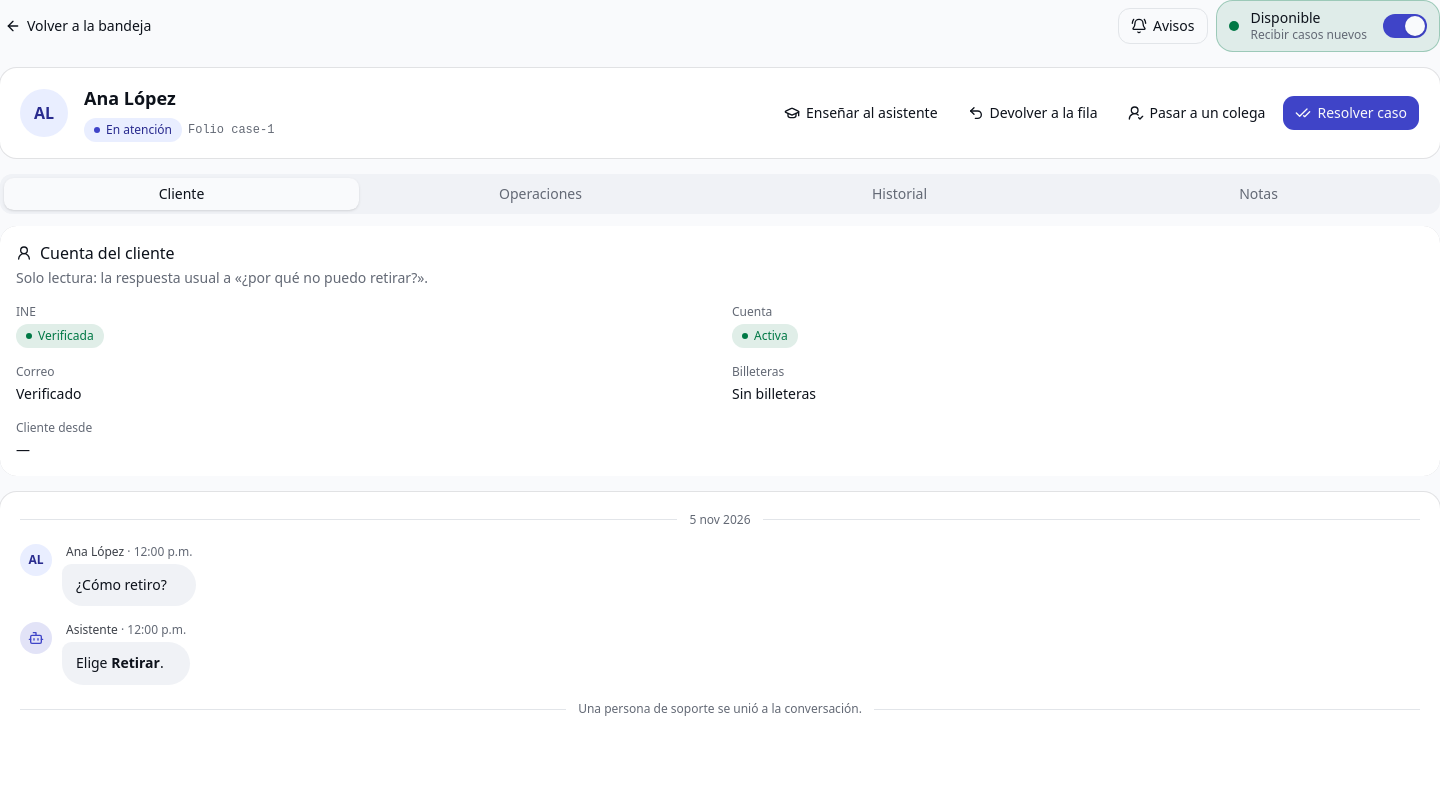
the customer's operations, for the agent attending them › explains when the operation is already under review
Click the tab "Operaciones": (540, 194) [363, 178, 718, 210]
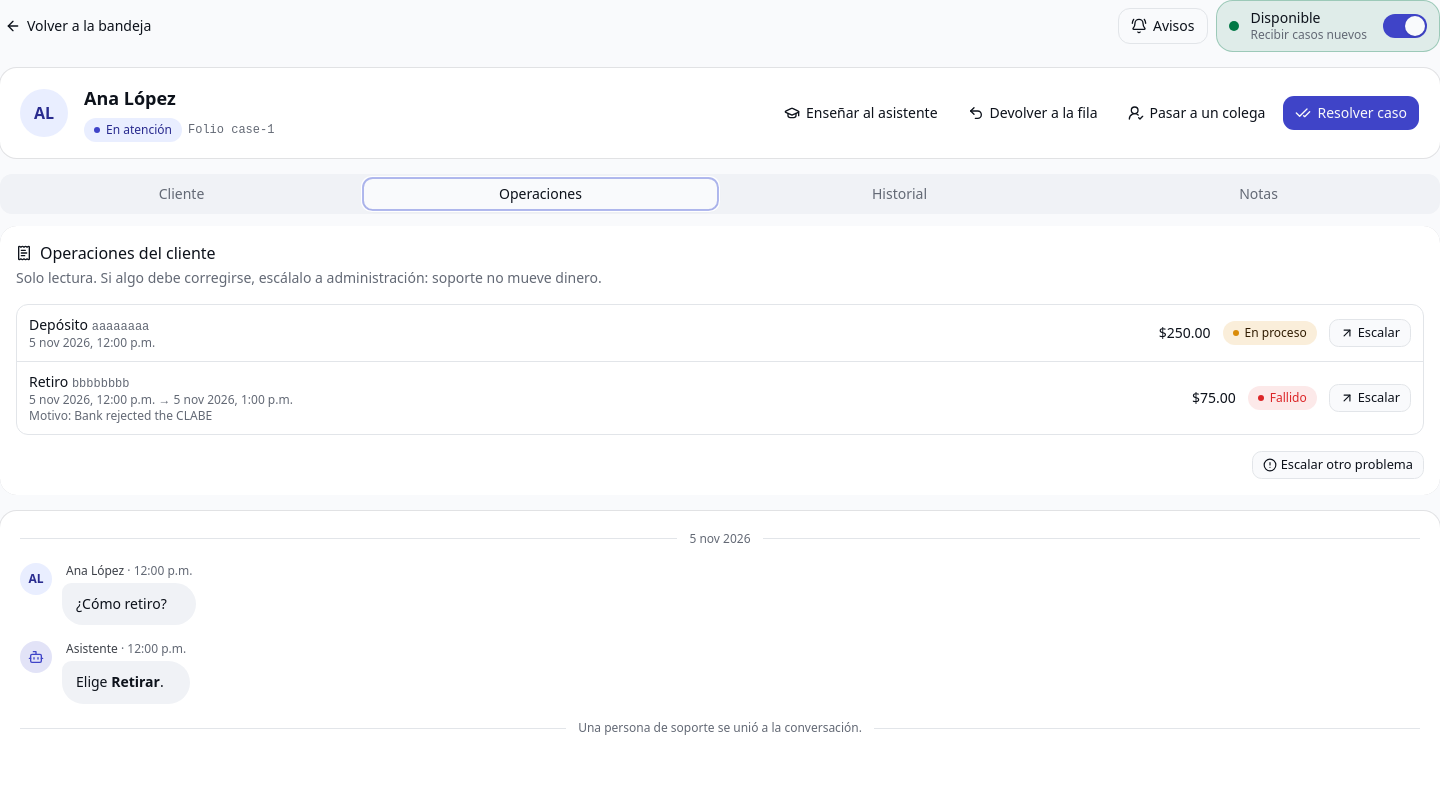
Click the button with aria-label "Escalar Retiro": (1370, 398) [1329, 384, 1411, 412]
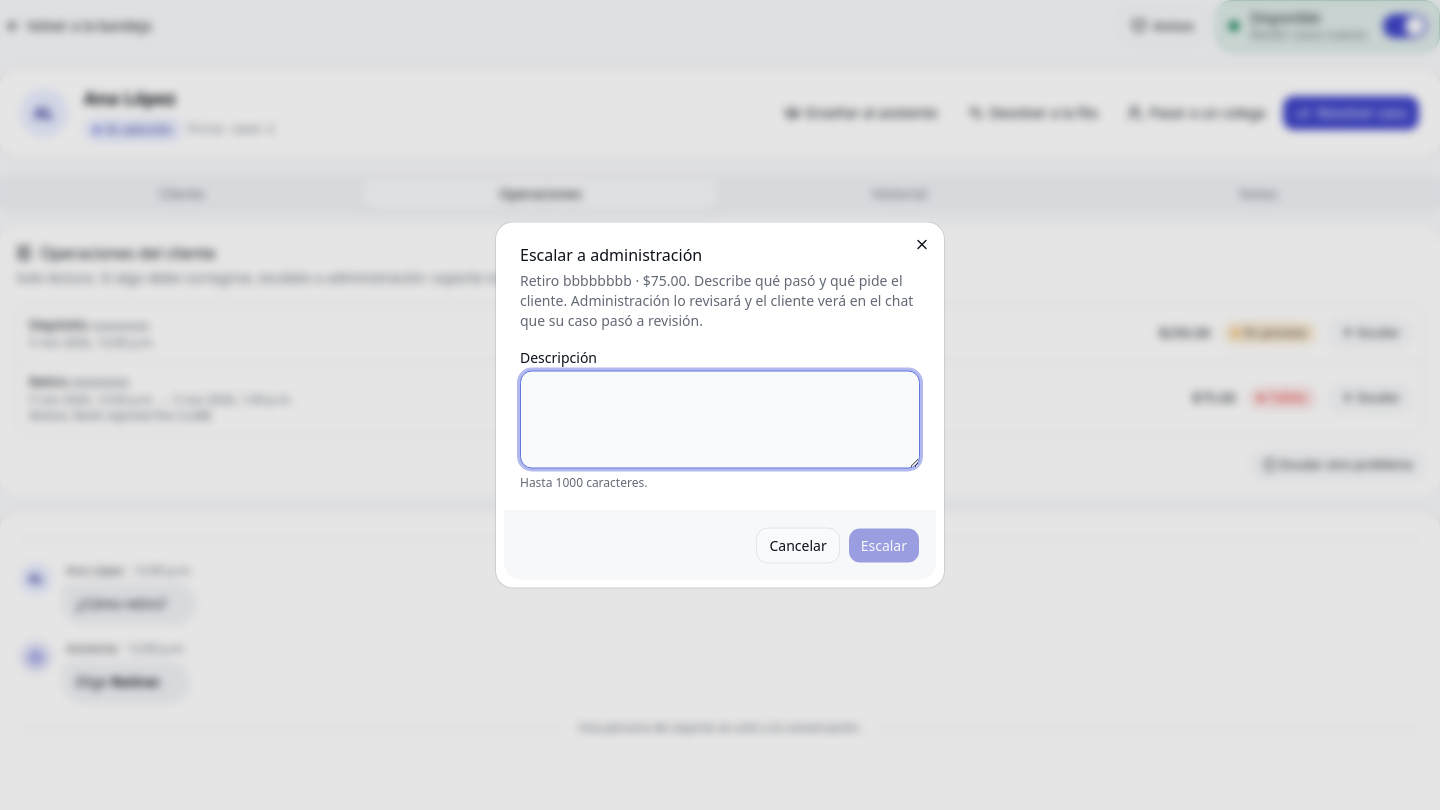
In the text box labelled "Descripción": (720, 420) [520, 370, 920, 468], type "No le llegó"
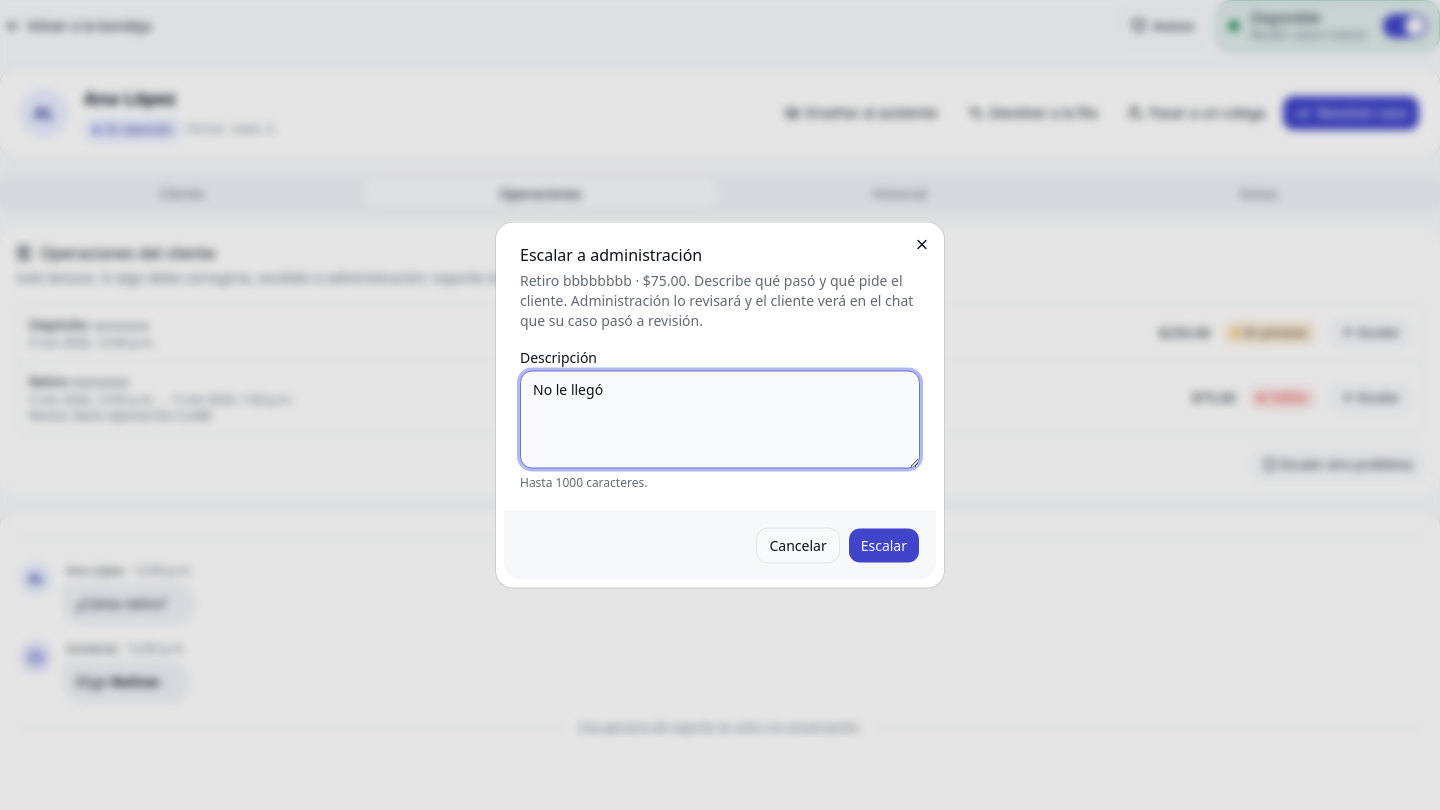
Click the button "Escalar": (884, 546) [848, 528, 920, 564]
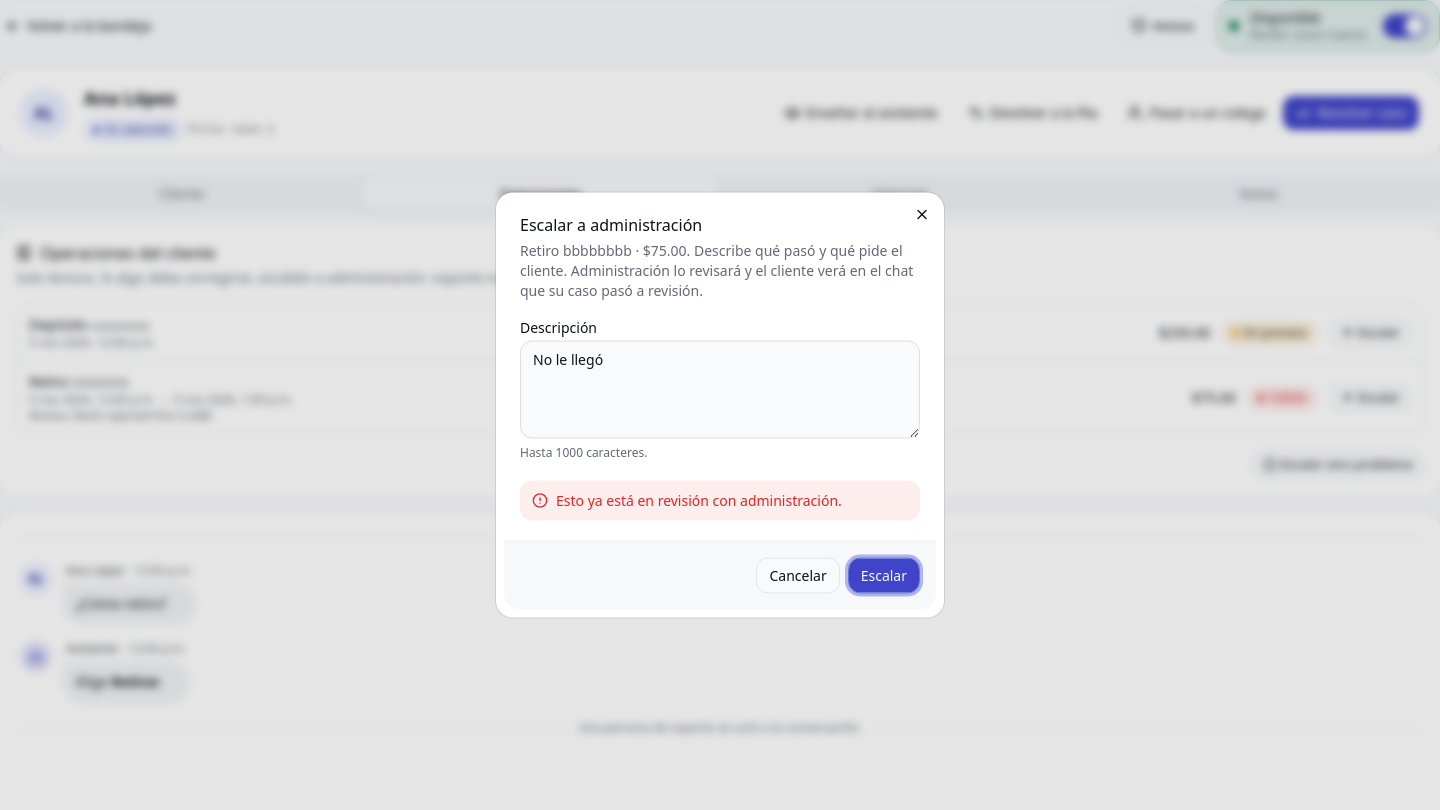
Check: the text "Esto ya está en revisión con administración." is shown, box [556, 490, 842, 510]
